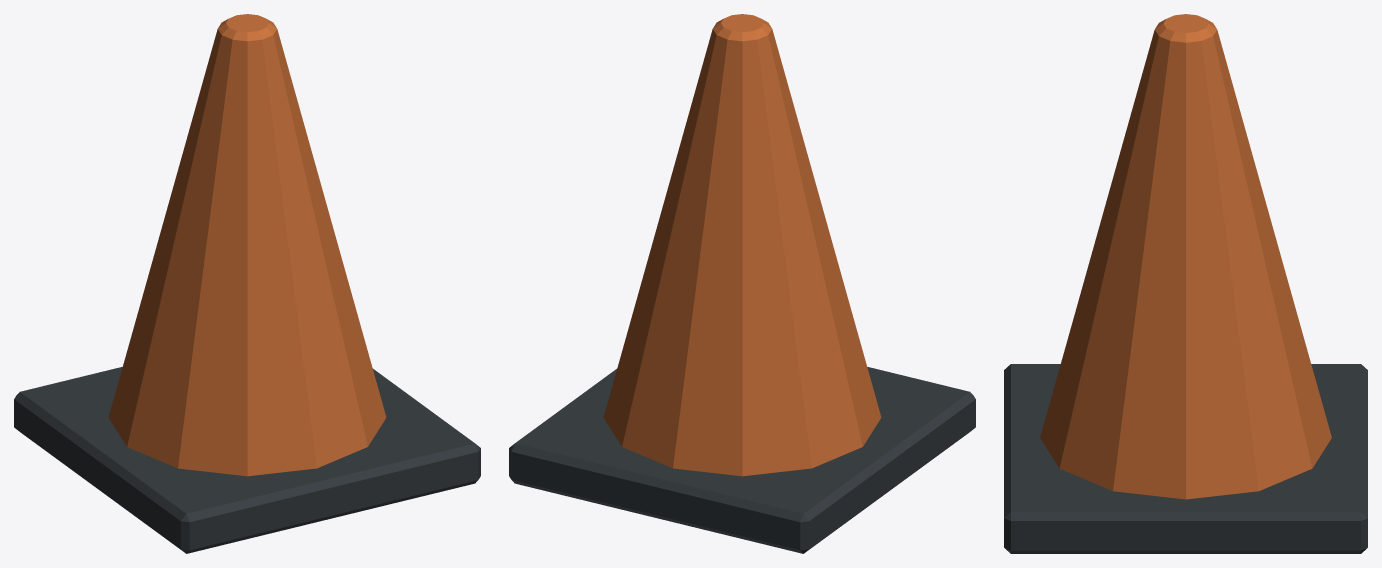
File: BH_TrafficCone.glb
3 renders of one model, left to right at view 1: azimuth 30°, elevation 25°; view 2: azimuth 150°, elevation 25°; view 3: azimuth 270°, elevation 25°, orthographic. The views are drawn at different scales.
Parts seen in each view (by area): view 1: BH_TrafficCone_RenderMesh; view 2: BH_TrafficCone_RenderMesh; view 3: BH_TrafficCone_RenderMesh.
Part boxes in pixels (box(x1,y1,x2,y2)): BH_TrafficCone_RenderMesh: box(14, 14, 480, 553); BH_TrafficCone_RenderMesh: box(509, 14, 975, 553); BH_TrafficCone_RenderMesh: box(1004, 14, 1367, 553).
Size of what is drawn, in the model's own units: 0.43 by 0.595 by 0.43.
